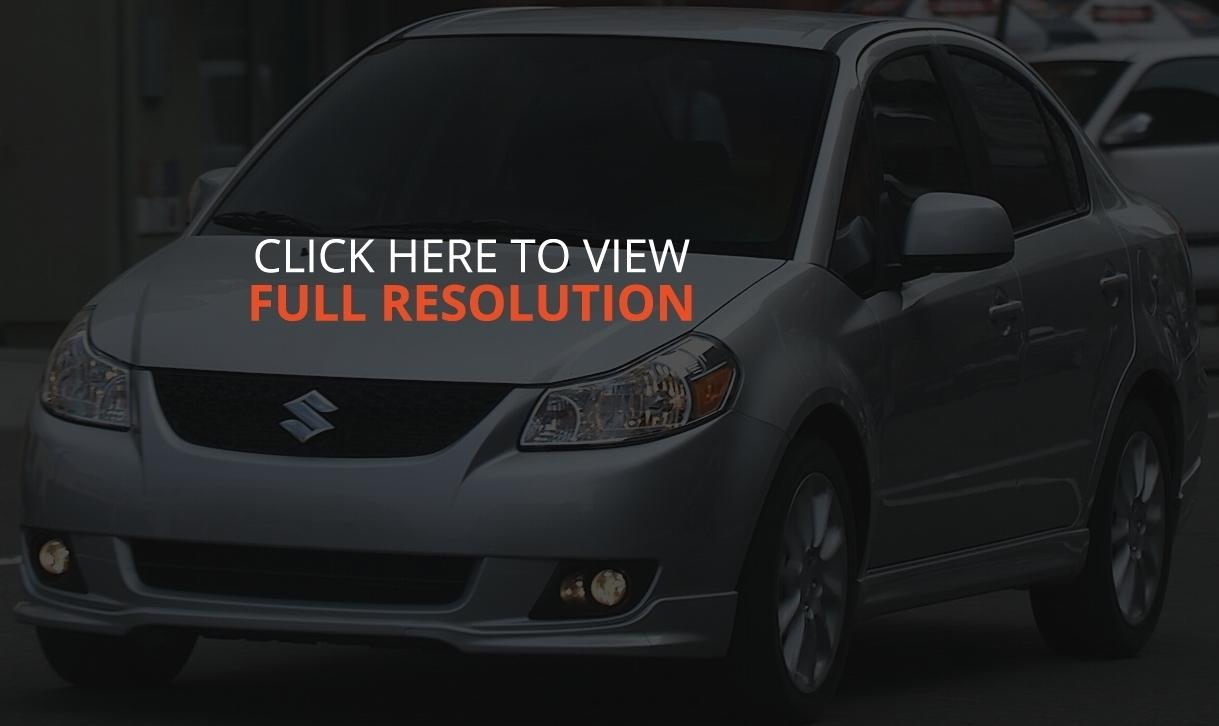front_view: (42, 327, 768, 654)
headlight: (534, 327, 730, 436)
side_glass: (840, 72, 1086, 258)
